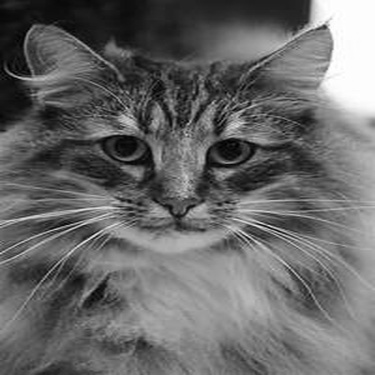cat: (19, 19, 359, 371)
